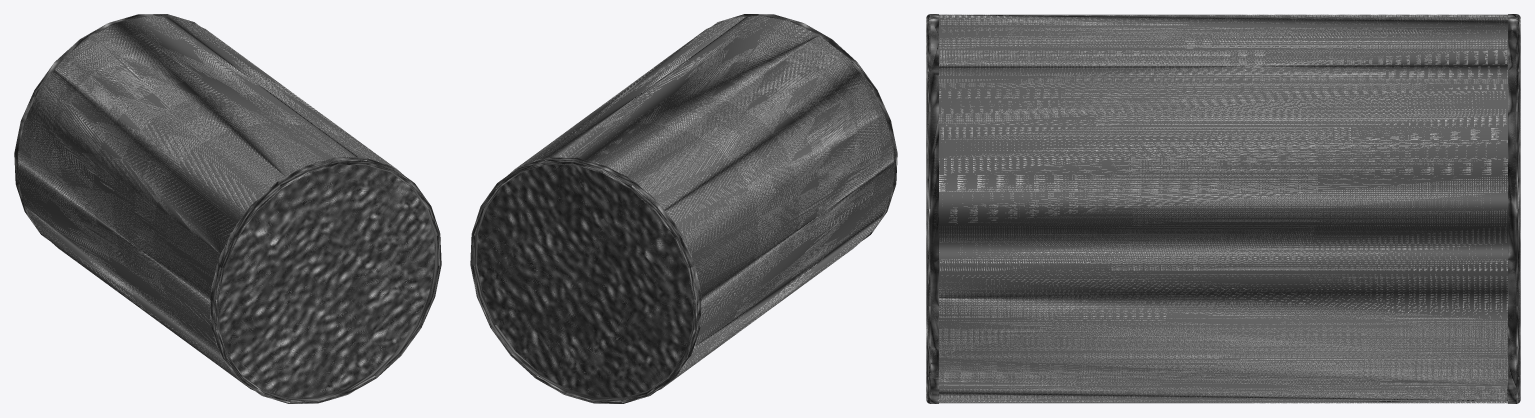
The model's file is model_align.obj.
The picture shows the model from 3 angles, left to right: view 1: azimuth 30°, elevation 25°; view 2: azimuth 150°, elevation 25°; view 3: azimuth 270°, elevation 25°; orthographic projection. The views are drawn at different scales.
Bounding box in the file's own units: 0.084 × 0.084 × 0.1285.
